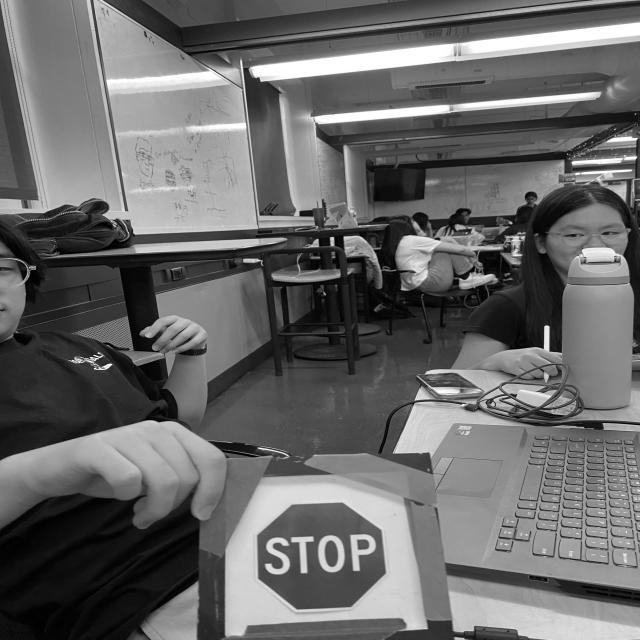stop: (252, 497, 389, 616)
